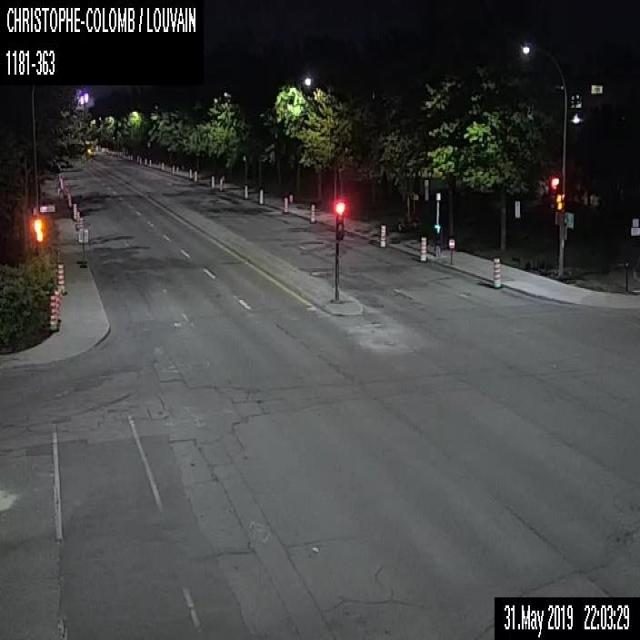construction: (395, 185, 421, 232), (78, 228, 88, 266), (49, 294, 59, 330), (492, 255, 501, 288), (57, 262, 66, 294), (420, 236, 428, 261), (56, 286, 61, 321), (54, 290, 59, 325), (379, 224, 386, 247), (309, 202, 315, 222), (283, 196, 288, 212), (258, 188, 263, 203), (76, 210, 80, 228), (73, 202, 77, 219), (288, 193, 292, 209), (68, 193, 72, 207), (243, 184, 247, 198), (218, 177, 222, 191), (193, 170, 197, 182), (79, 216, 83, 227), (188, 168, 192, 178), (211, 175, 214, 188), (171, 164, 174, 173), (148, 158, 151, 167), (136, 153, 139, 162), (175, 165, 178, 174), (139, 155, 141, 164), (144, 157, 146, 166), (161, 162, 163, 170)
